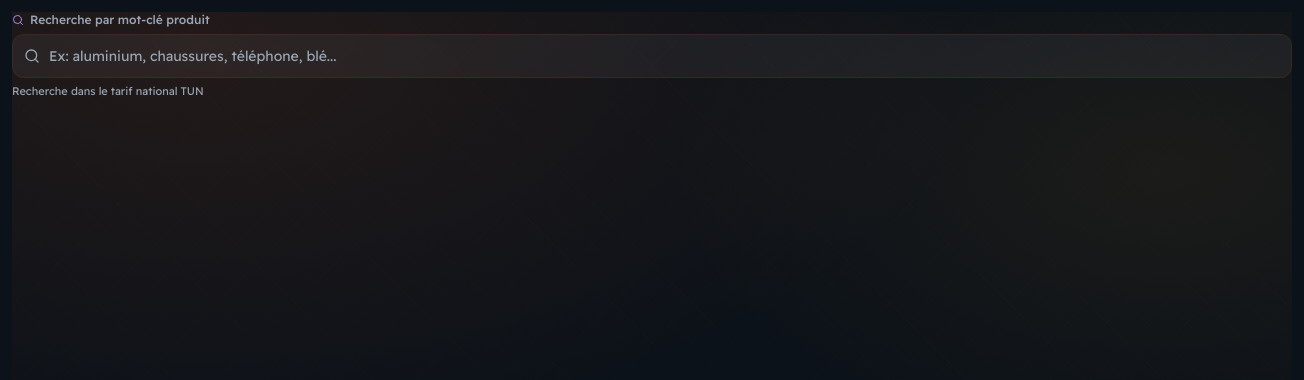
ProductKeywordSearch › à l'écran export, ne montre pas le droit d'import
Type "cigarettes" into the field at (652, 56), box [12, 34, 1292, 78]
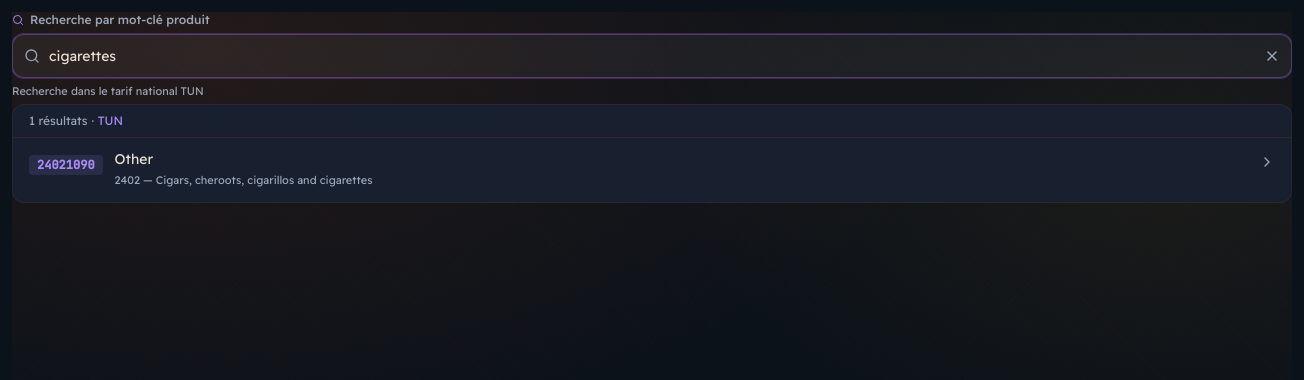
Expected: the text "24021090" is shown, [29, 155, 103, 175]
